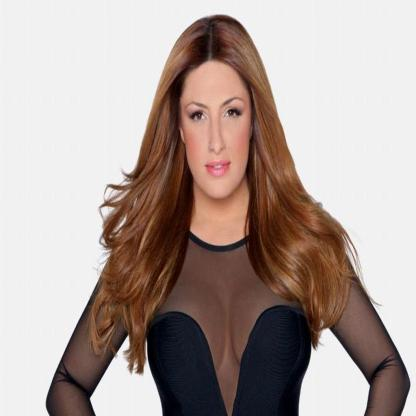long-hair: (98, 198, 337, 247)
